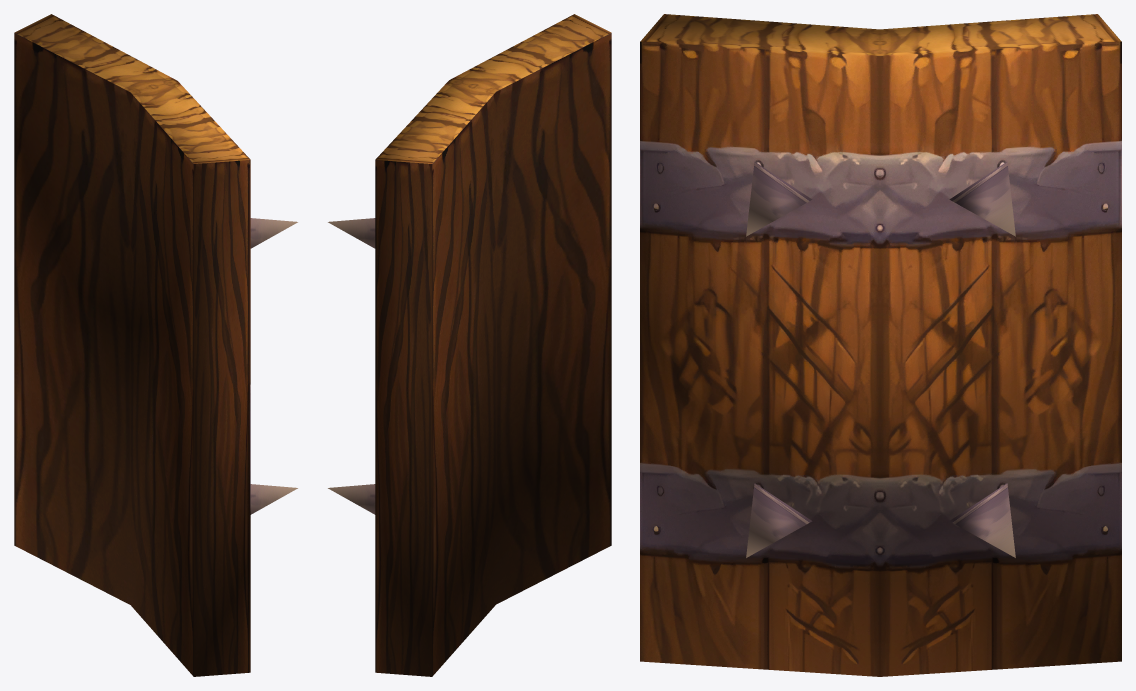
The model's file is orcshield01.obj.
3 views of the same model, side by side, from view 1: azimuth 30°, elevation 25°; view 2: azimuth 150°, elevation 25°; view 3: azimuth 270°, elevation 25° (orthographic). The views are drawn at different scales.
Parts seen in each view (by area): view 1: orcshield01; view 2: orcshield01; view 3: orcshield01.
Part boxes in pixels (bbox=[...]): orcshield01: bbox=[14, 14, 297, 676]; orcshield01: bbox=[328, 14, 611, 676]; orcshield01: bbox=[640, 14, 1121, 676].
Bounding box in the file's own units: 0.3083 × 1.09 × 0.7666.
Materials: 1 (1 with a texture image).
